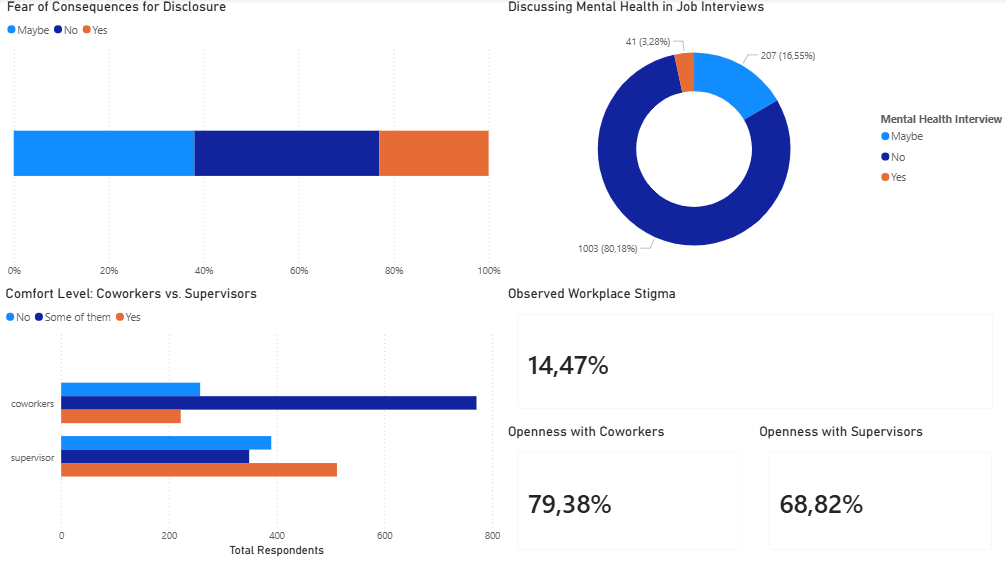

What the dashboard file says about the page in this screenshot:
{"tool":"powerbi","page":{"name":"Stigma & Barriers","canvas":[1280,720],"ordinal":3},"visuals":[{"type":"cardVisual","title":"Openness with Supervisors","fields":{"Data":["survey_clean.% open with supervisor"]},"box":[955.1,533,314.2,177],"z":0},{"type":"cardVisual","title":"Openness with Coworkers","fields":{"Data":["survey_clean.% open with coworkers"]},"box":[640,533,315.1,177],"z":500},{"type":"cardVisual","title":"Observed Workplace Stigma","fields":{"Data":["survey_clean.% obs consequence"]},"box":[640,359.9,630.3,173.1],"z":750},{"type":"clusteredBarChart","title":"Comfort Level: Coworkers vs. Supervisors","fields":{"Category":["survey_communication.Attribute"],"Series":["survey_communication.Value"],"Y":["CountNonNull(survey_communication.Indeks)"]},"box":[9.7,359.9,630.3,345.3],"z":875},{"type":"donutChart","title":"Discussing Mental Health in Job Interviews","fields":{"Series":["survey_clean.mental_health_interview"],"Y":["CountNonNull(survey_clean.mental_health_interview)"]},"box":[640,0,640,359.9],"z":2000},{"type":"hundredPercentStackedBarChart","title":"Fear of Consequences for Disclosure","fields":{"Y":["CountNonNull(survey_clean.mental_health_consequence)"],"Series":["survey_clean.mental_health_consequence"]},"box":[10.7,0,629.3,359.9],"z":2500}]}

Visuals, with their boxes in screenshot pixels (x1, y1, x2, y2), scaled from the page's 1280x720 canvas onto the 1006x563 screenshot:
"Openness with Supervisors" cardVisual: [751,417,998,555]
"Openness with Coworkers" cardVisual: [503,417,751,555]
"Observed Workplace Stigma" cardVisual: [503,281,998,417]
"Comfort Level: Coworkers vs. Supervisors" clusteredBarChart: [8,281,503,551]
"Discussing Mental Health in Job Interviews" donutChart: [503,0,1005,281]
"Fear of Consequences for Disclosure" hundredPercentStackedBarChart: [8,0,503,281]
